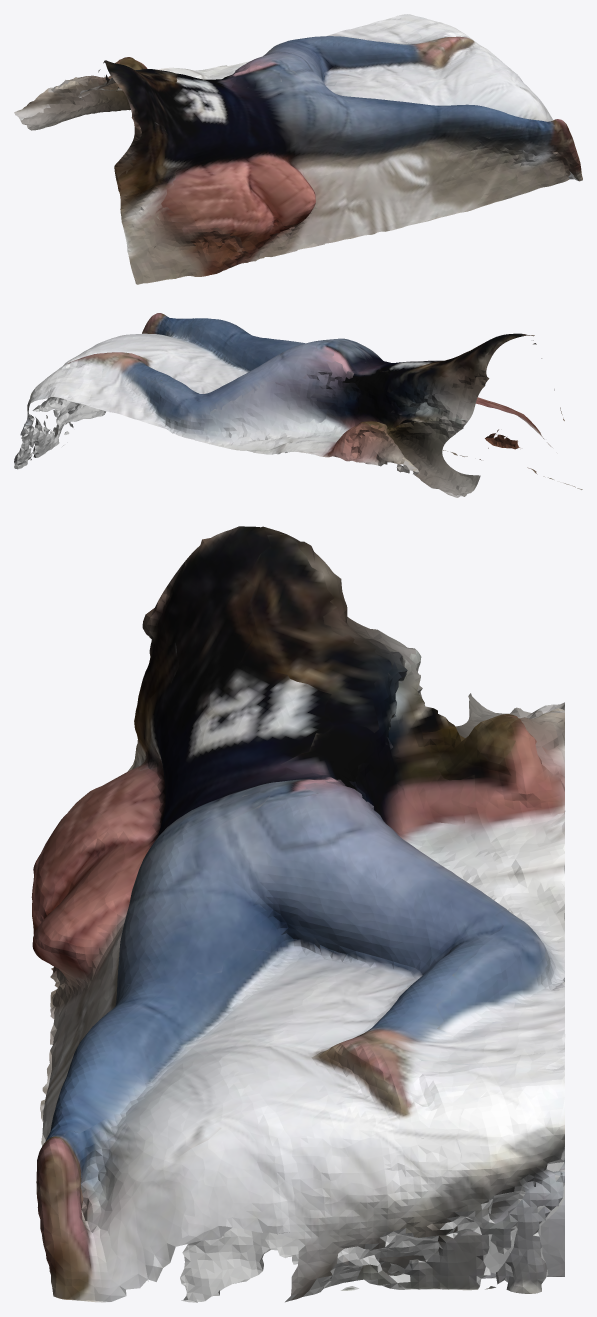
The picture shows the model from 3 angles, top to bottom: view 1: azimuth 30°, elevation 25°; view 2: azimuth 150°, elevation 25°; view 3: azimuth 270°, elevation 25°; orthographic projection. The views are drawn at different scales.
Size of the model in its own units: 1.53 by 0.5853 by 0.7885.
1 material, 1 textured.
